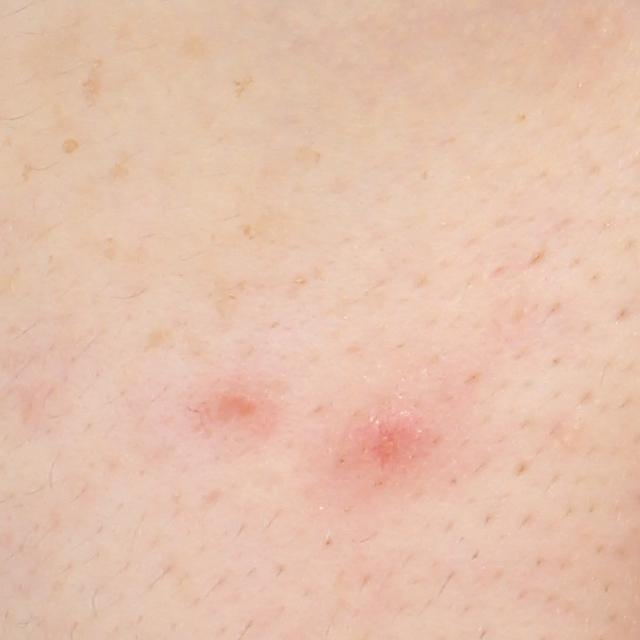melasma: (97, 146, 140, 184), (80, 56, 107, 111), (231, 73, 258, 102)
